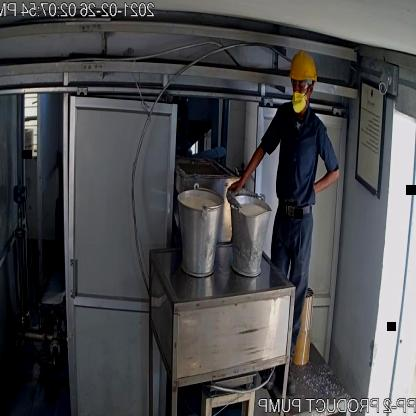helmet: (288, 50, 316, 82)
